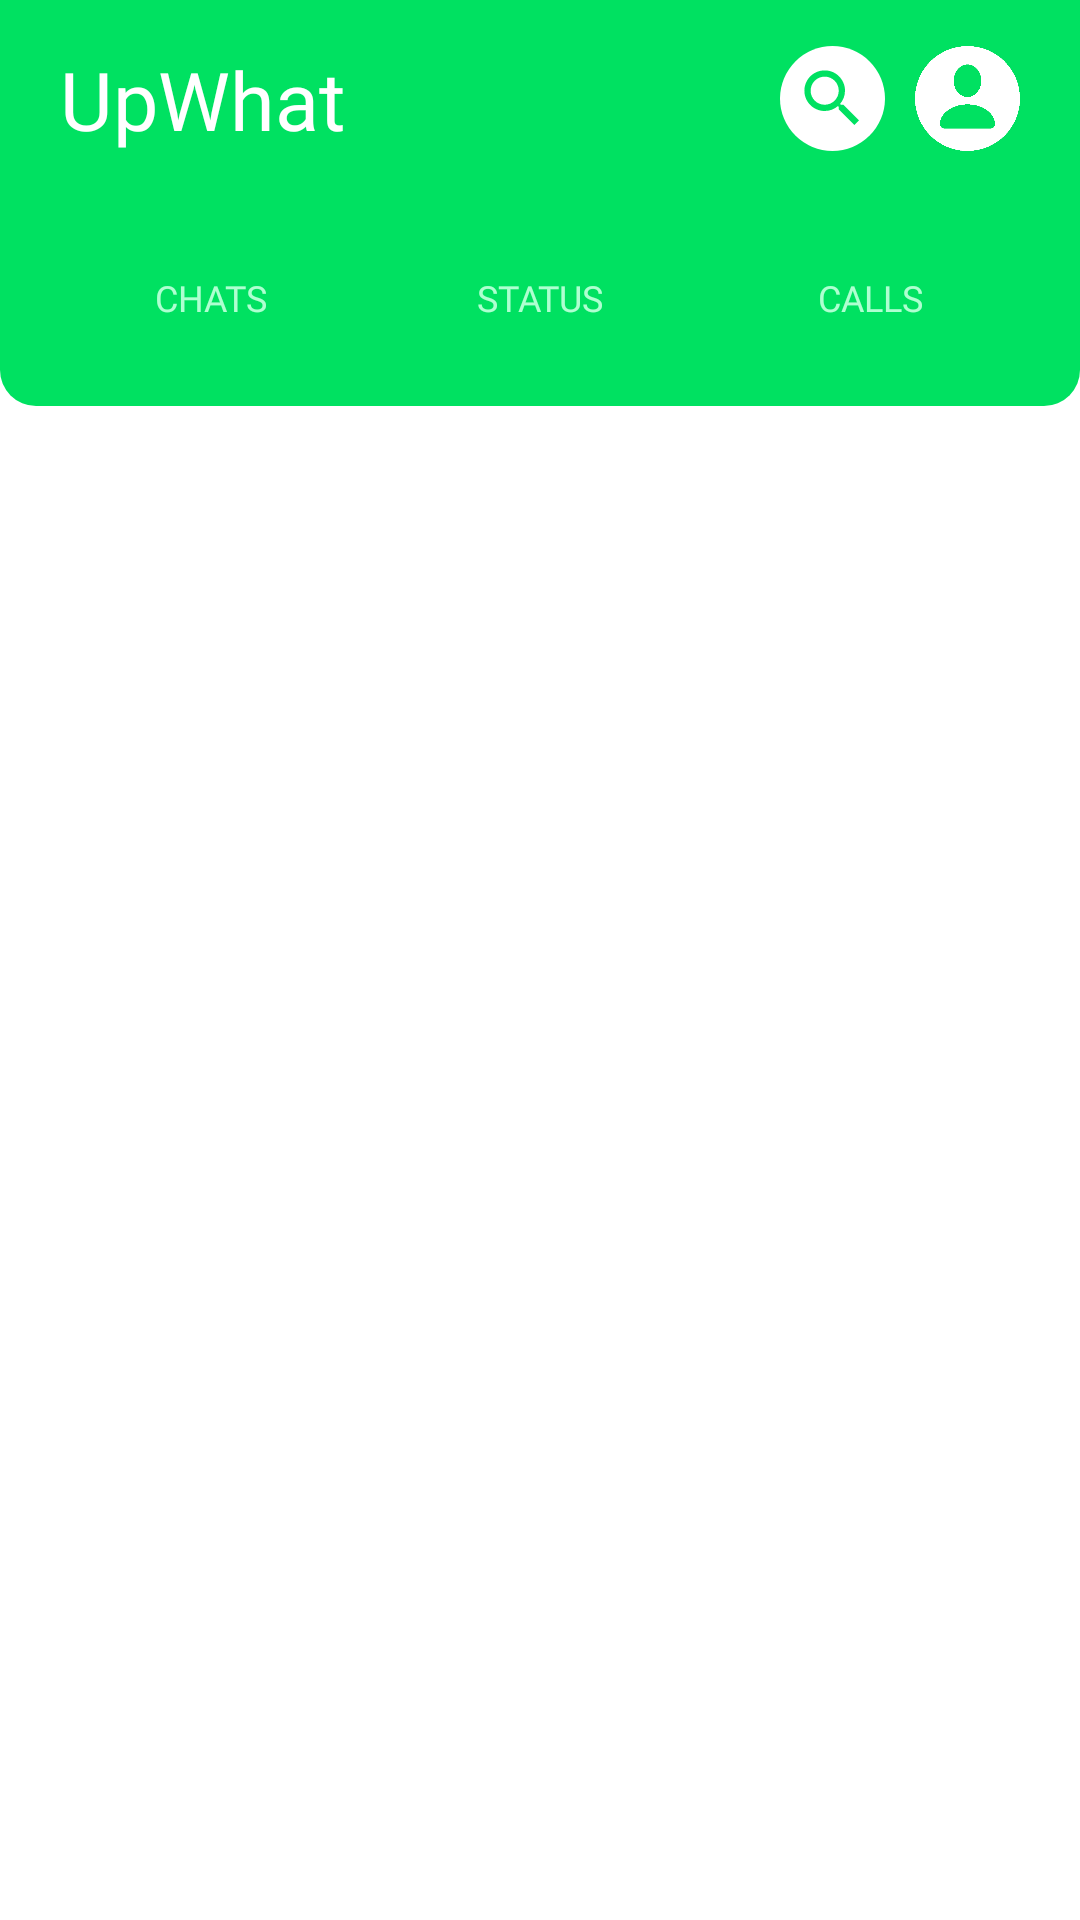

Icon click points for this 1080w x 1920h phone screenshot, format (x,y):
search: (831,97)
user: (967,98)
